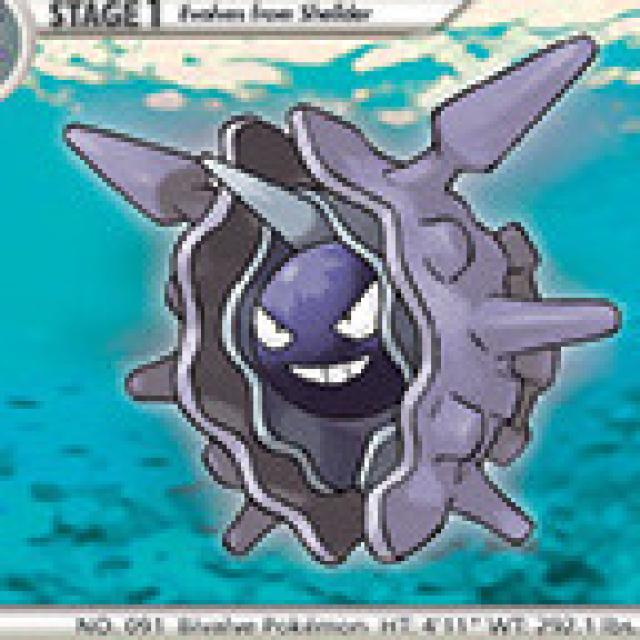Cloyster: (125, 98, 581, 563)
